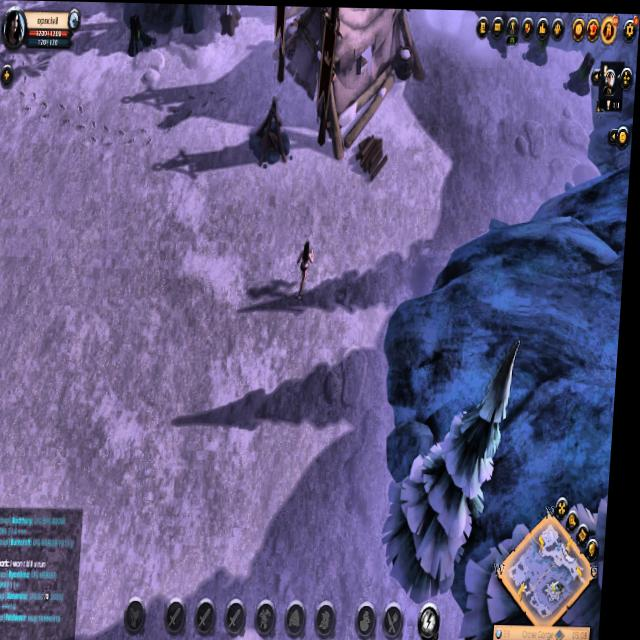tin_ore: (120, 8, 163, 64), (564, 46, 598, 99)
